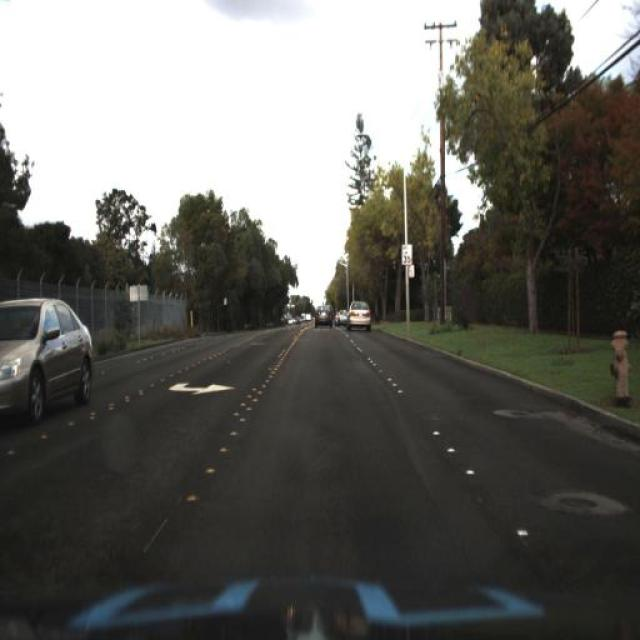car: (0, 298, 96, 426), (344, 300, 374, 335), (310, 300, 335, 335)
